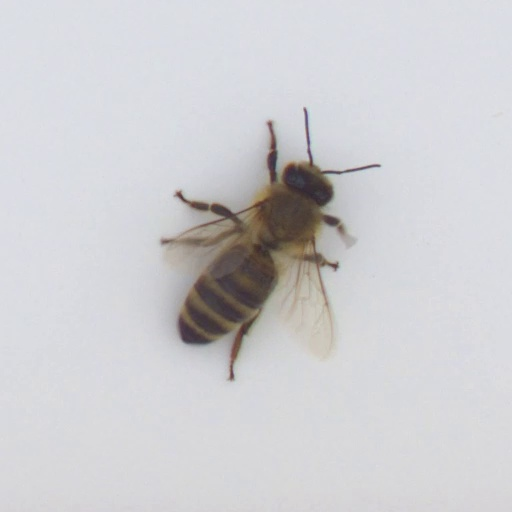Bee: (178, 162, 334, 345)
Thorax: (254, 185, 324, 244)
